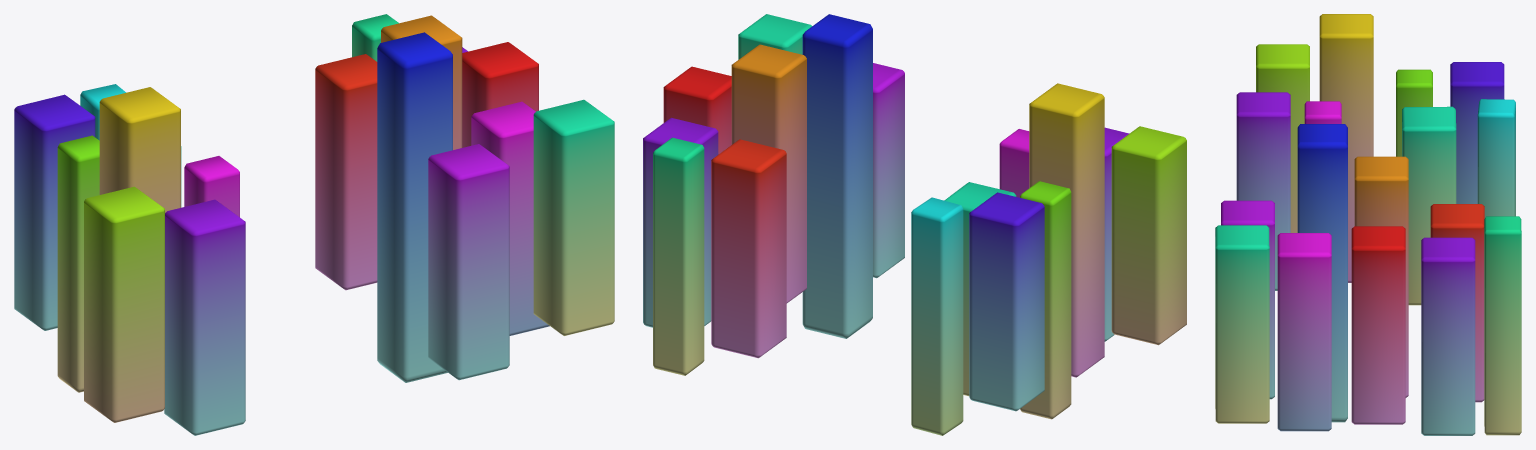
File: ФОН.fbx
The picture shows the model from 3 angles, left to right: view 1: azimuth 30°, elevation 25°; view 2: azimuth 150°, elevation 25°; view 3: azimuth 270°, elevation 25°; orthographic projection. The views are drawn at different scales.
Visible parts, largest first — view 1: Cube.010; view 2: Cube.010; view 3: Cube.010.
Part boxes in pixels (x1,y1,x2,y2): Cube.010: [14, 14, 614, 435]; Cube.010: [643, 14, 1186, 435]; Cube.010: [1215, 14, 1521, 435].
Bounding box in the file's own units: 7388 × 4698 × 4663.
